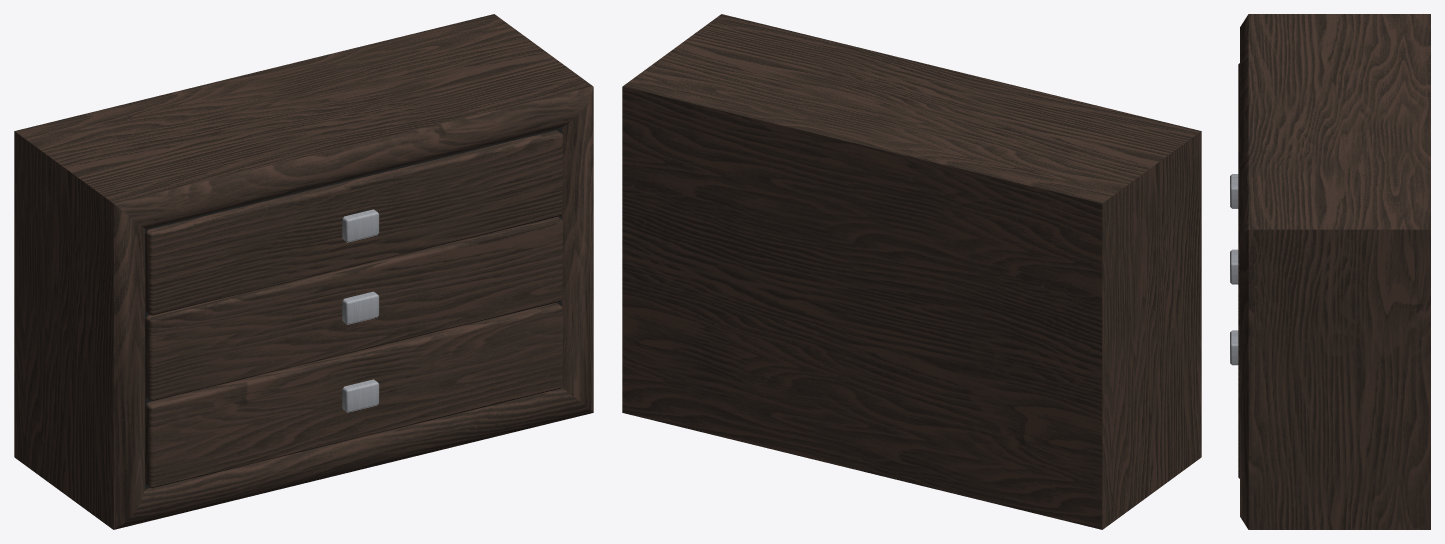
Rendered from dresser_026.fbx.
The picture shows the model from 3 angles, left to right: view 1: azimuth 30°, elevation 25°; view 2: azimuth 150°, elevation 25°; view 3: azimuth 270°, elevation 25°; orthographic projection. The views are drawn at different scales.
Visible parts, largest first — view 1: dresser_026; view 2: dresser_026; view 3: dresser_026.
Part boxes in pixels (x1,y1,x2,y2): dresser_026: (14, 14, 593, 529); dresser_026: (622, 14, 1201, 529); dresser_026: (1230, 14, 1430, 529).
Bounding box in the file's own units: 178 × 70.27 × 116.
